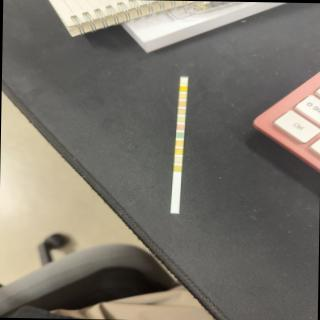mark: (177, 115, 184, 122), (178, 108, 185, 115), (174, 166, 182, 172), (174, 156, 182, 162), (174, 148, 182, 154), (175, 140, 183, 146), (178, 100, 186, 106), (178, 93, 186, 99), (176, 132, 183, 138), (177, 124, 184, 130), (180, 86, 188, 91), (180, 78, 187, 83)
